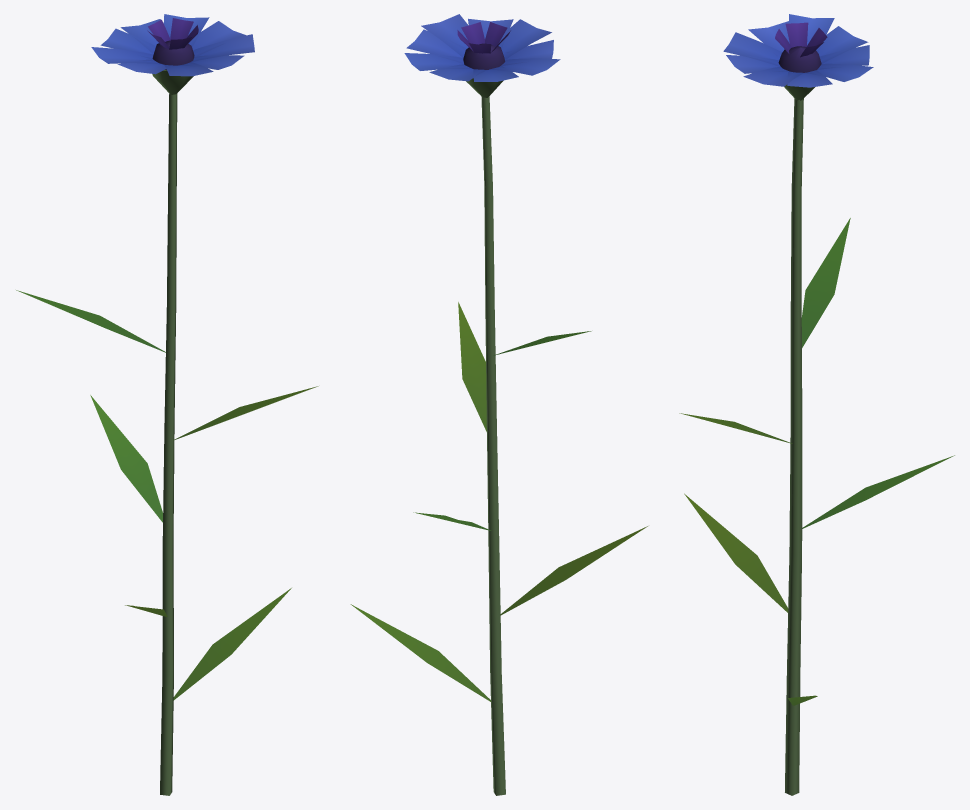
Rendered from flower-cornflower-a.lod0.glb.
3 renders of one model, left to right at view 1: azimuth 30°, elevation 25°; view 2: azimuth 150°, elevation 25°; view 3: azimuth 270°, elevation 25°, orthographic.
Parts seen in each view (by area): view 1: flower-cornflower-a.lod0; view 2: flower-cornflower-a.lod0; view 3: flower-cornflower-a.lod0.
Part boxes in pixels (x1,y1,x2,y2): flower-cornflower-a.lod0: (16, 14, 318, 795); flower-cornflower-a.lod0: (350, 14, 647, 795); flower-cornflower-a.lod0: (679, 14, 954, 795).
Size of the model in its own units: 0.1179 by 0.3285 by 0.1079.
